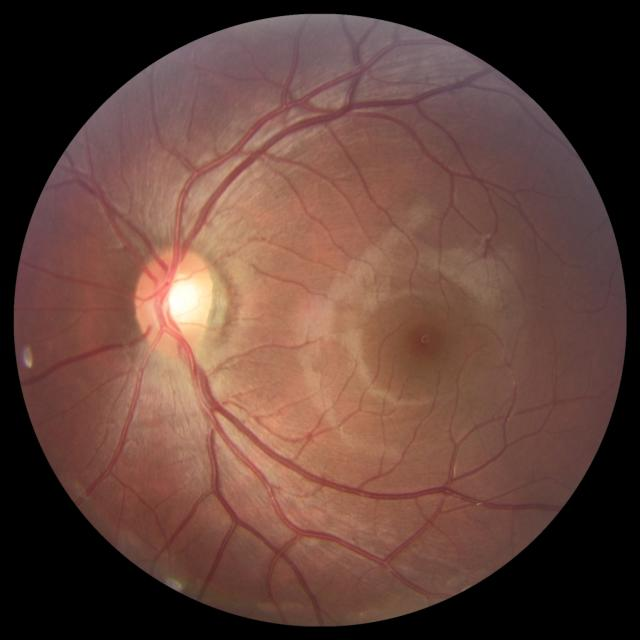OC: (158, 274, 204, 321)
OD: (133, 246, 216, 351)
